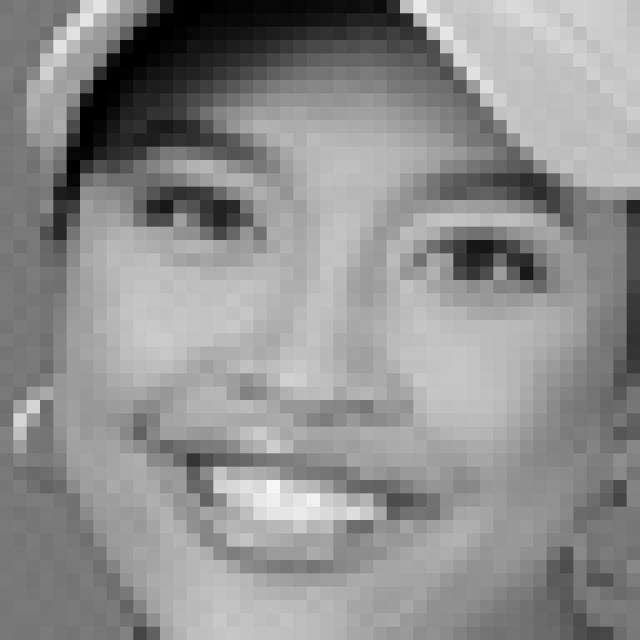happy: (110, 112, 584, 590)
